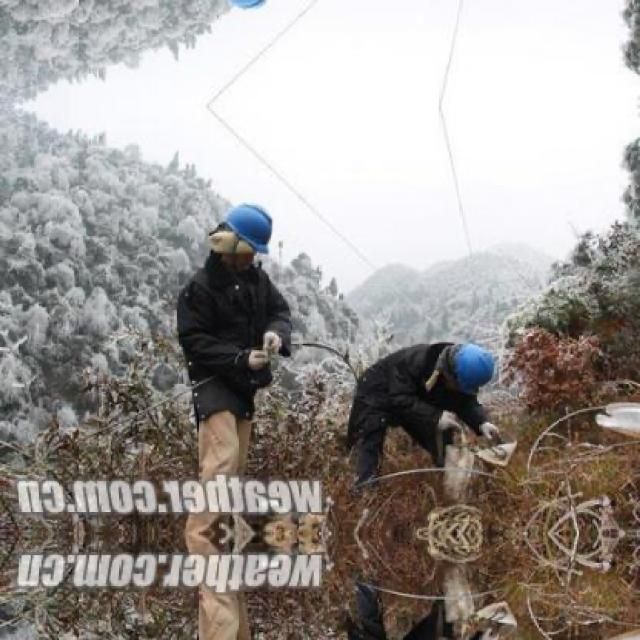helmet: (209, 197, 282, 267), (442, 344, 500, 396), (209, 0, 283, 17)
